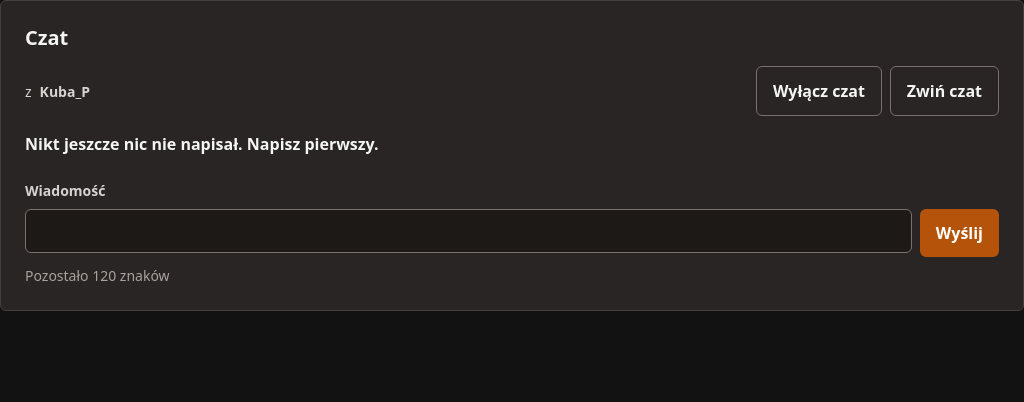
Test: ChatPanel, turning the chat off and on › shows an alert for a failed change, in the words of the change, and clears it on the next attempt
Click the button with test id "chat-switch" at (819, 91), box left=756, top=66, right=882, bottom=116
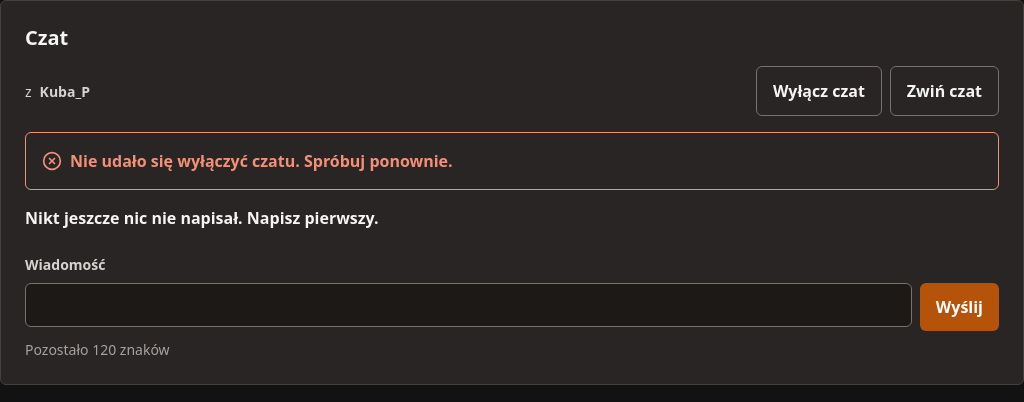
expect the text "Nie udało się wyłączyć czatu. Spróbuj ponownie." is shown: met, box left=70, top=149, right=453, bottom=173
Click the button with test id "chat-switch" at (819, 91), box left=756, top=66, right=882, bottom=116
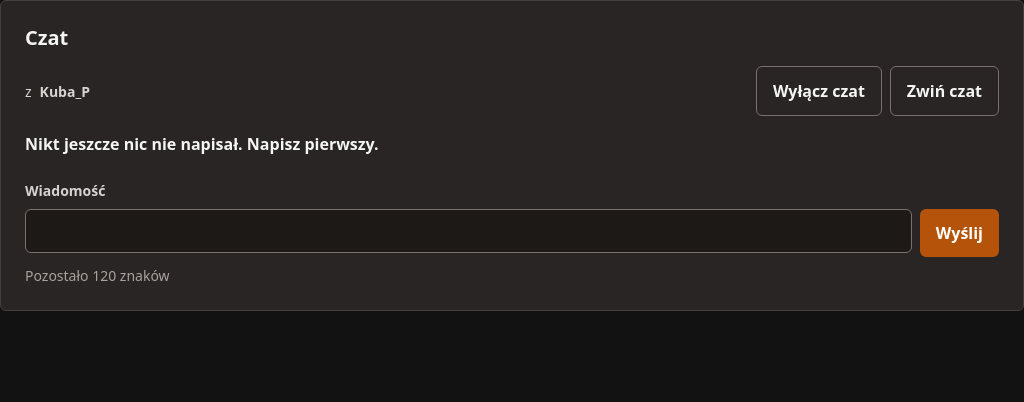
expect the text "Nie udało się wyłączyć czatu. Spróbuj ponownie." is gone: met
